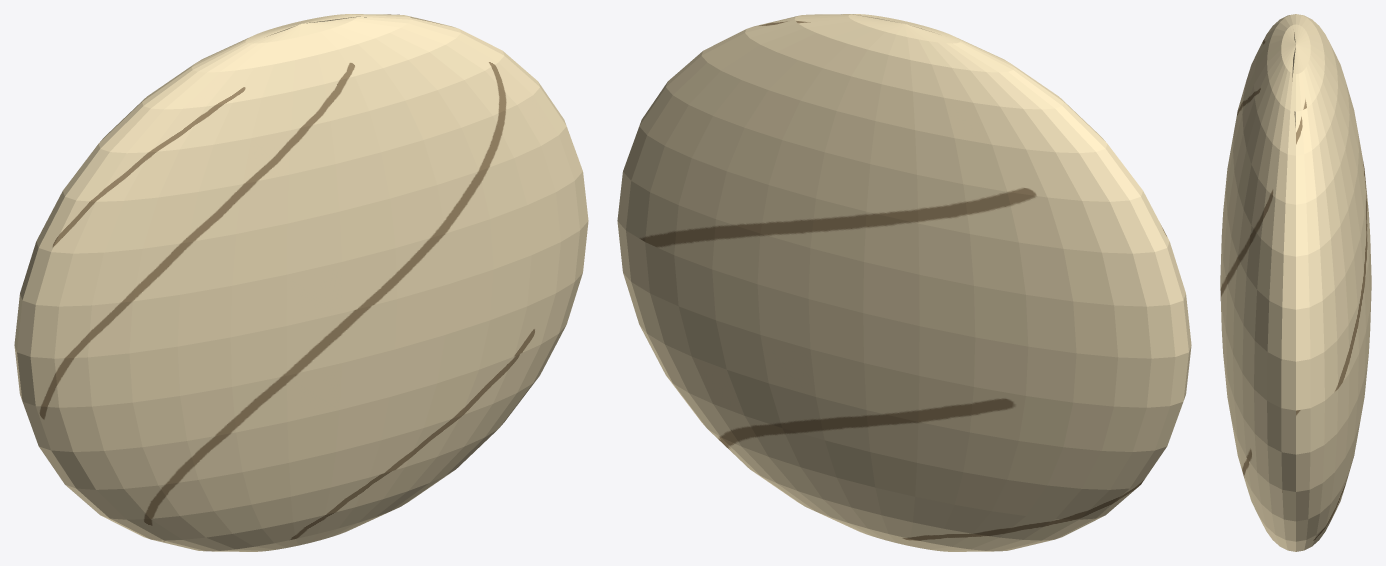
The model's file is Arepitas.fbx.
3 views of the same model, side by side, from view 1: azimuth 30°, elevation 25°; view 2: azimuth 150°, elevation 25°; view 3: azimuth 270°, elevation 25° (orthographic). The views are drawn at different scales.
Parts seen in each view (by area): view 1: Sphere; view 2: Sphere; view 3: Sphere.
Boxes of the visible parts, x1,y1,x2,y2 form: Sphere: [14, 14, 588, 551]; Sphere: [617, 14, 1191, 551]; Sphere: [1220, 14, 1371, 551].
Size of the model in its own units: 147 by 128 by 36.79.
1 material, 1 textured.
